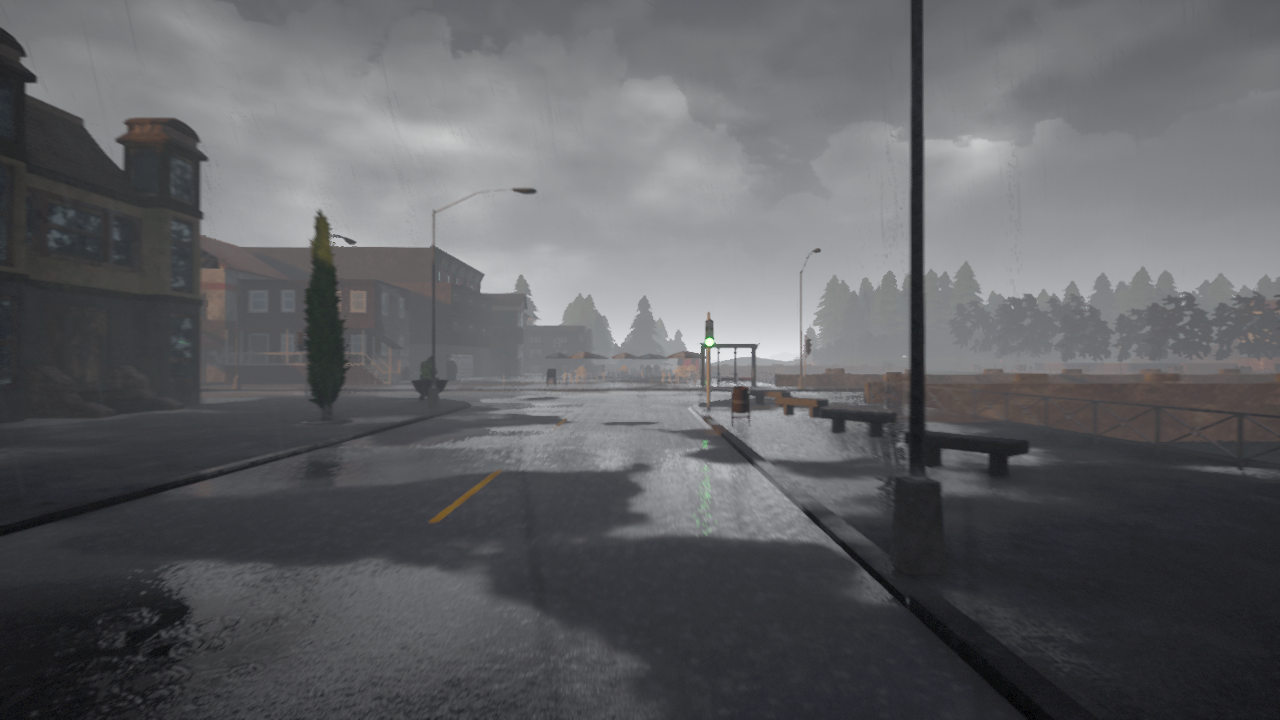green: (704, 320, 715, 347)
